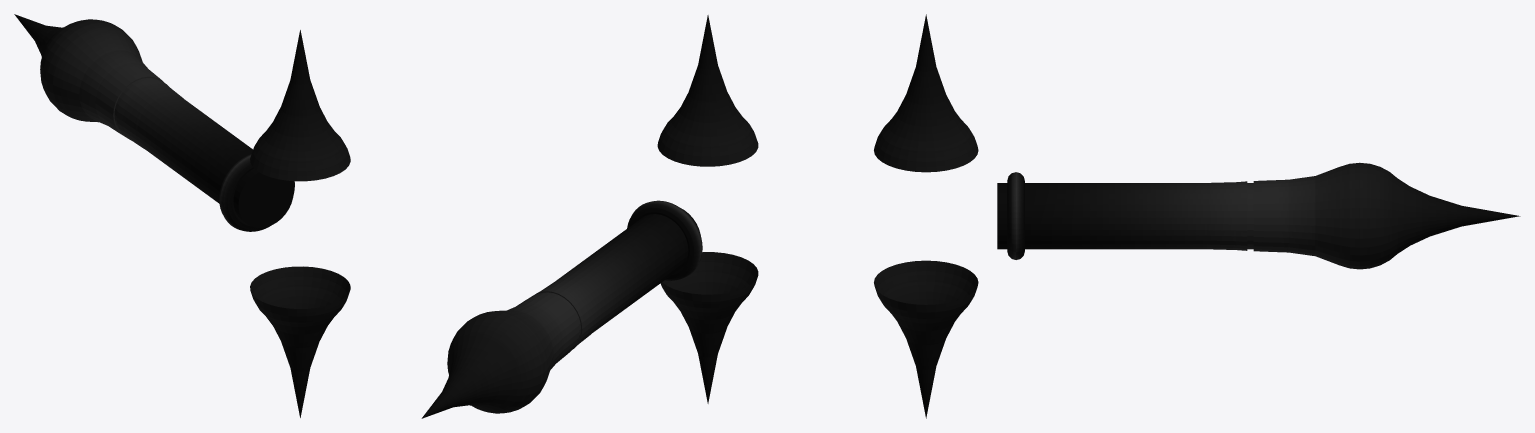
File: thaosvenom_handle_2.obj
The picture shows the model from 3 angles, left to right: view 1: azimuth 30°, elevation 25°; view 2: azimuth 150°, elevation 25°; view 3: azimuth 270°, elevation 25°; orthographic projection. The views are drawn at different scales.
Parts seen in each view (by area): view 1: Icosphere; view 2: Icosphere; view 3: Icosphere.
Boxes of the visible parts, x1,y1,x2,y2 form: Icosphere: (14, 14, 350, 417); Icosphere: (421, 15, 758, 418); Icosphere: (874, 14, 1520, 418).
Bounding box in the file's own units: 0.2388 × 0.5573 × 0.8622.
